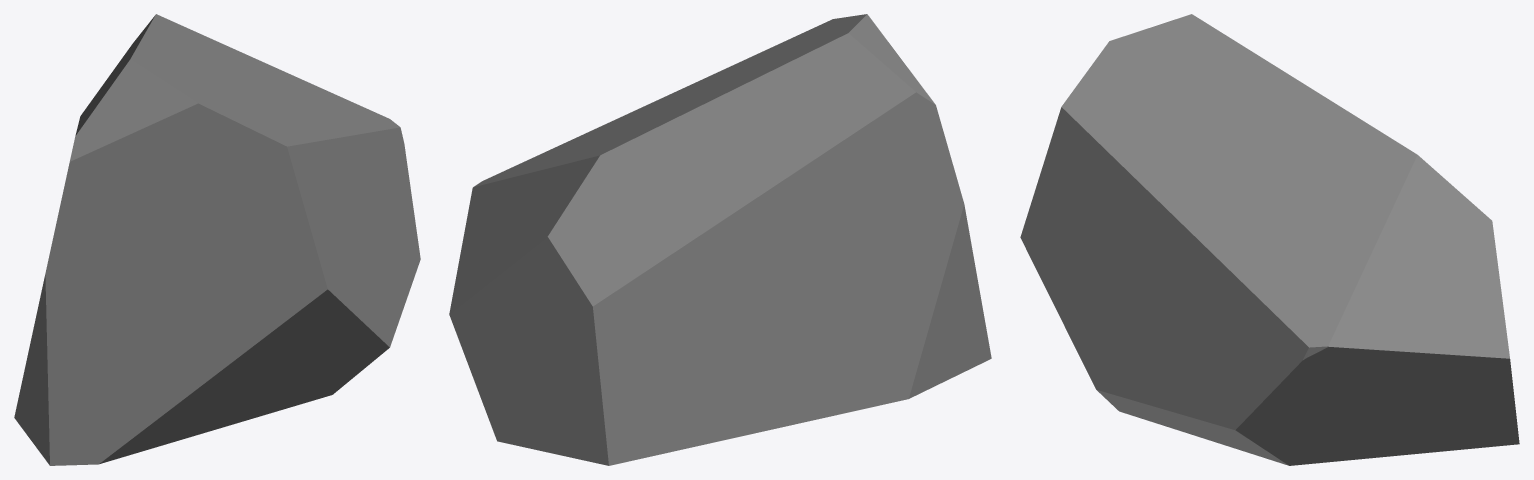
Rendered from Pedra2.fbx.
3 renders of one model, left to right at view 1: azimuth 30°, elevation 25°; view 2: azimuth 150°, elevation 25°; view 3: azimuth 270°, elevation 25°, orthographic. The views are drawn at different scales.
Visible parts, largest first — view 1: Sphere.001; view 2: Sphere.001; view 3: Sphere.001.
Boxes of the visible parts, left/top/right/bottom form: Sphere.001: left=14, top=14, right=420, bottom=465; Sphere.001: left=449, top=14, right=991, bottom=465; Sphere.001: left=1020, top=14, right=1519, bottom=465.
Size of the model in its own units: 197 by 152 by 203.
